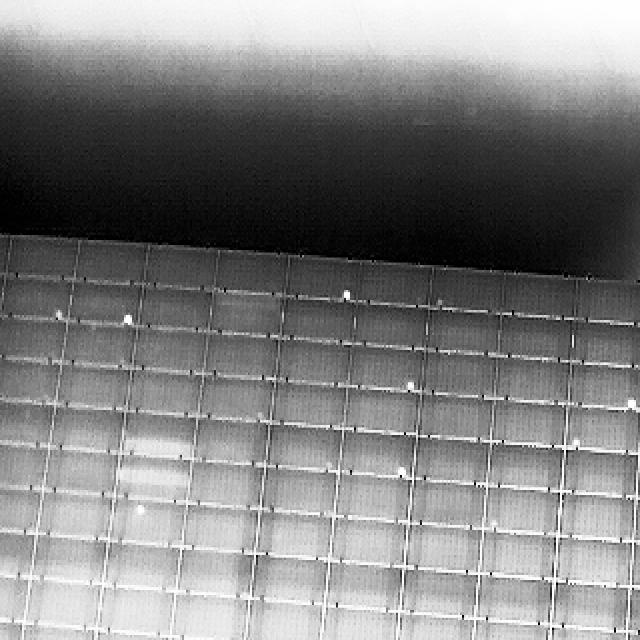Hotspots: (118, 310, 137, 328), (622, 395, 640, 413), (395, 464, 415, 480), (337, 288, 356, 301), (134, 501, 148, 518), (405, 377, 417, 395), (571, 435, 581, 450)
PV-modules: (24, 574, 104, 629), (250, 555, 330, 607), (94, 587, 172, 640), (102, 541, 179, 594), (28, 536, 106, 588), (329, 516, 406, 568), (398, 568, 478, 618), (476, 574, 554, 625), (174, 549, 253, 599), (42, 448, 116, 501), (46, 406, 124, 456), (490, 400, 568, 450), (342, 387, 420, 437), (402, 525, 478, 576), (253, 513, 329, 564), (422, 348, 498, 399), (324, 562, 401, 612), (338, 425, 412, 477), (405, 480, 483, 529), (277, 338, 353, 388), (190, 416, 266, 466), (564, 451, 640, 501), (551, 578, 627, 628), (556, 491, 632, 541), (259, 468, 335, 518), (111, 456, 187, 506), (129, 364, 202, 416), (481, 533, 558, 582), (553, 539, 630, 588), (489, 445, 566, 494), (35, 490, 110, 540), (186, 463, 261, 513), (408, 435, 484, 484), (263, 423, 339, 472), (134, 329, 210, 378), (353, 304, 429, 353), (360, 260, 436, 309), (485, 486, 562, 534), (107, 498, 182, 547), (202, 332, 277, 381), (503, 268, 578, 317), (62, 319, 134, 370), (425, 312, 501, 360), (494, 356, 568, 405), (52, 362, 129, 409), (416, 396, 494, 442), (334, 475, 410, 522), (270, 383, 346, 430), (566, 402, 640, 450), (180, 509, 257, 555), (430, 268, 507, 314), (283, 254, 360, 300), (139, 286, 216, 332), (74, 236, 146, 285), (196, 374, 271, 421), (344, 344, 422, 389), (143, 246, 217, 293), (278, 299, 352, 346), (214, 250, 288, 297), (168, 595, 244, 640), (5, 238, 81, 283), (211, 290, 283, 337), (499, 316, 571, 362), (568, 322, 640, 368), (123, 412, 195, 458), (574, 275, 640, 325), (72, 282, 144, 327), (0, 497, 37, 584), (0, 315, 64, 365), (0, 274, 69, 320), (566, 363, 640, 405), (244, 602, 324, 640), (0, 398, 53, 452), (0, 357, 57, 405), (318, 605, 396, 640), (394, 610, 472, 640), (0, 441, 46, 490), (0, 484, 39, 535), (0, 533, 33, 581), (470, 620, 546, 640), (16, 622, 94, 640), (0, 574, 26, 622), (544, 625, 622, 640), (88, 630, 166, 640), (626, 587, 640, 640), (0, 617, 18, 640), (632, 542, 640, 592), (162, 635, 242, 640), (632, 498, 640, 548), (636, 457, 640, 505), (626, 632, 640, 640), (638, 412, 640, 458)
